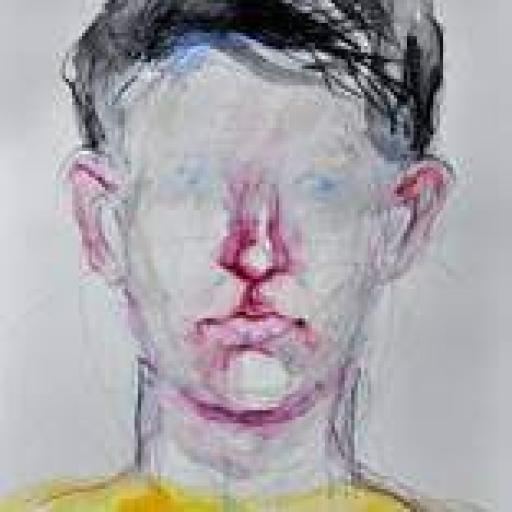person: (52, 0, 465, 512)
